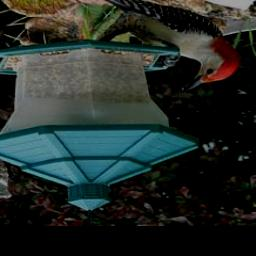Woodpecker: (83, 0, 240, 93)
